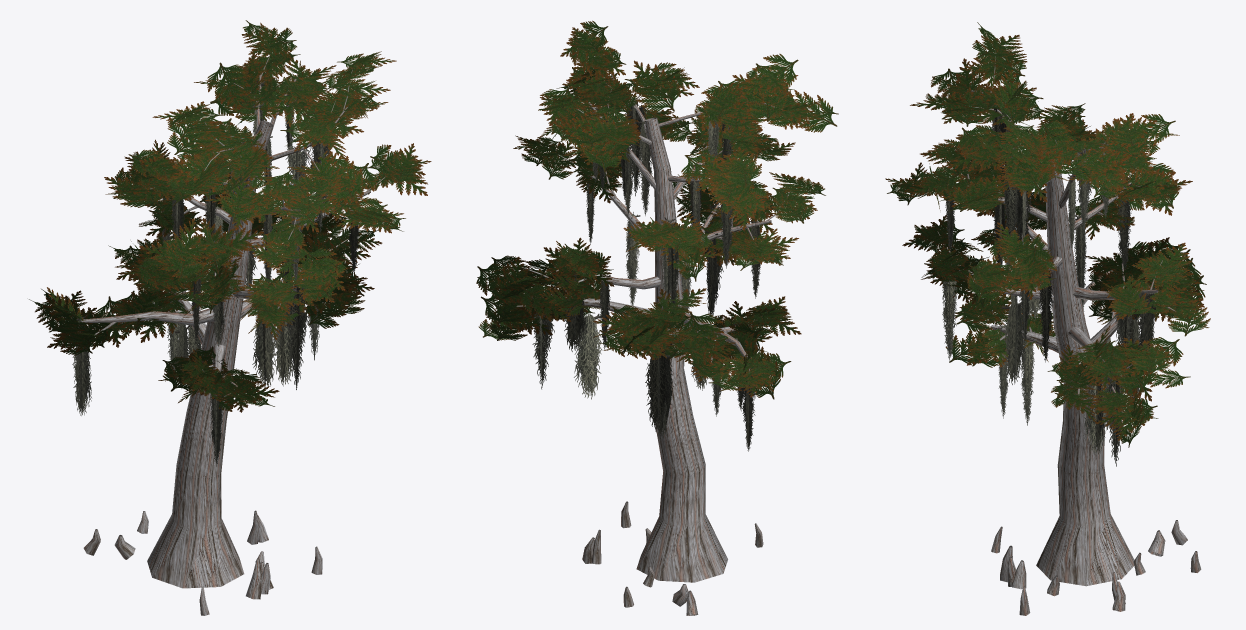
File: nature-black-swamp-cypress_v2.glb
3 renders of one model, left to right at view 1: azimuth 30°, elevation 25°; view 2: azimuth 150°, elevation 25°; view 3: azimuth 270°, elevation 25°, orthographic. The views are drawn at different scales.
Visible parts, largest first — view 1: nature-black-swamp-cypress; view 2: nature-black-swamp-cypress; view 3: nature-black-swamp-cypress.
Boxes of the visible parts, x1,y1,x2,y2 form: nature-black-swamp-cypress: (29, 20, 431, 615); nature-black-swamp-cypress: (476, 20, 838, 615); nature-black-swamp-cypress: (885, 22, 1210, 615).
Size of the model in its own units: 7.87 by 11.39 by 6.96.
Materials: 2 (2 with a texture image).
